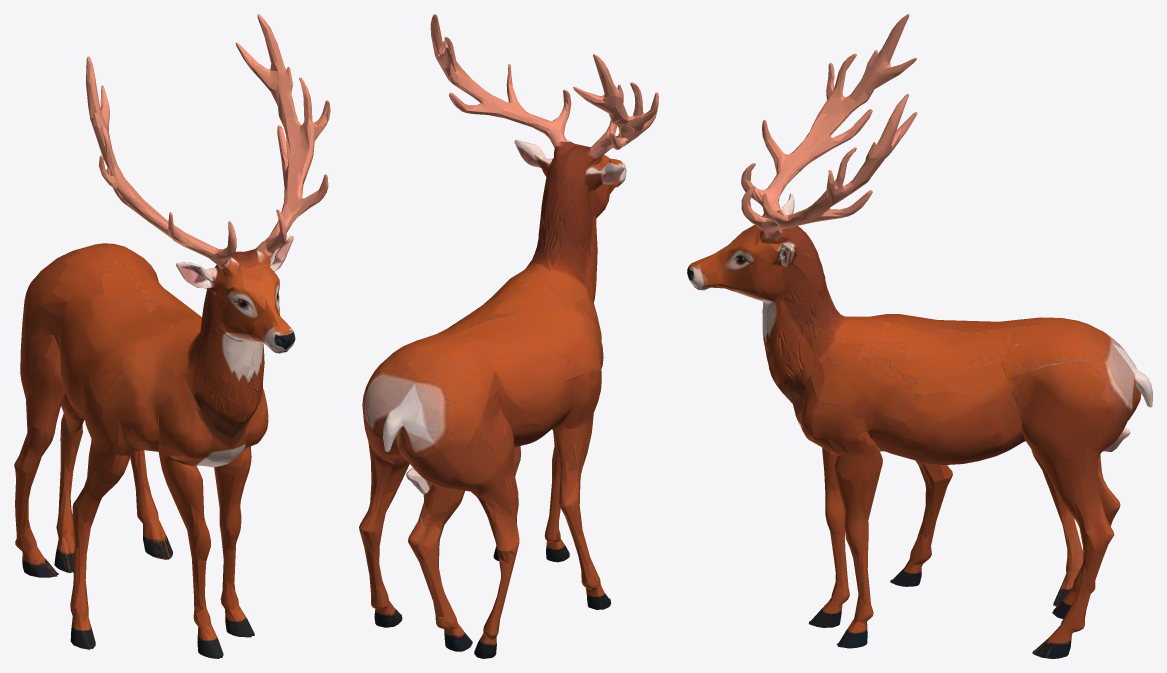
File: deer.glb
3 views of the same model, side by side, from view 1: azimuth 30°, elevation 25°; view 2: azimuth 150°, elevation 25°; view 3: azimuth 270°, elevation 25° (orthographic). The views are drawn at different scales.
Size of the model in its own units: 0.7827 by 1.9 by 1.4.
1 material, 1 textured.
